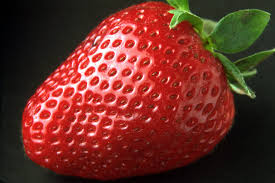strawberry: (20, 1, 275, 180)
